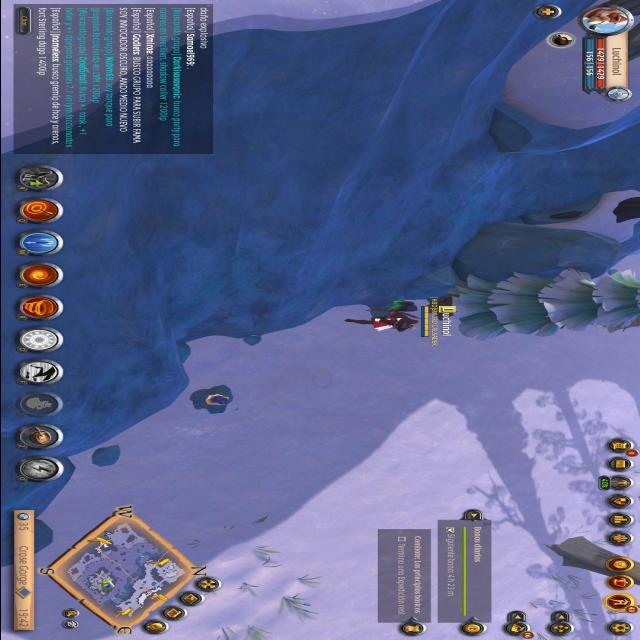piedra_cobre: (187, 388, 240, 416)
